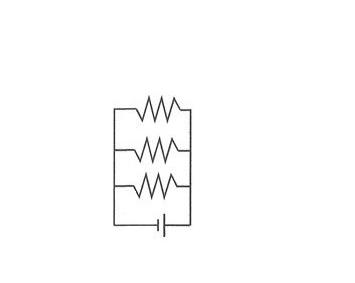resistor: (113, 165, 189, 201), (119, 131, 188, 164), (124, 87, 186, 121)
